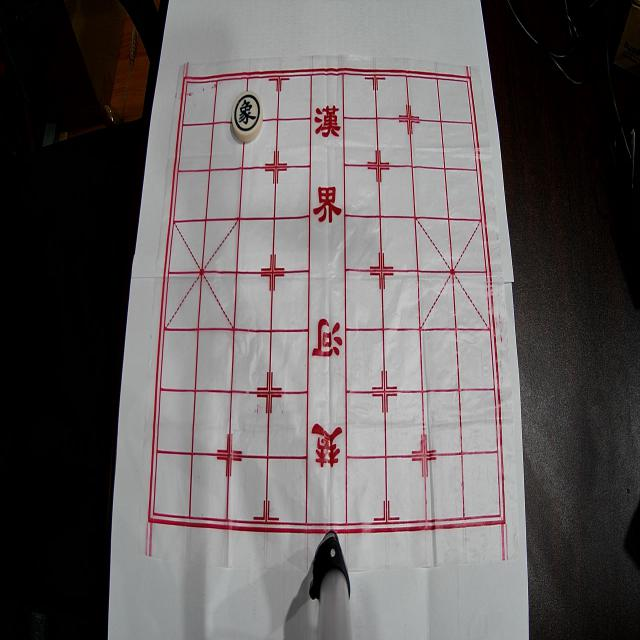black-elephant: (232, 92, 262, 142)
